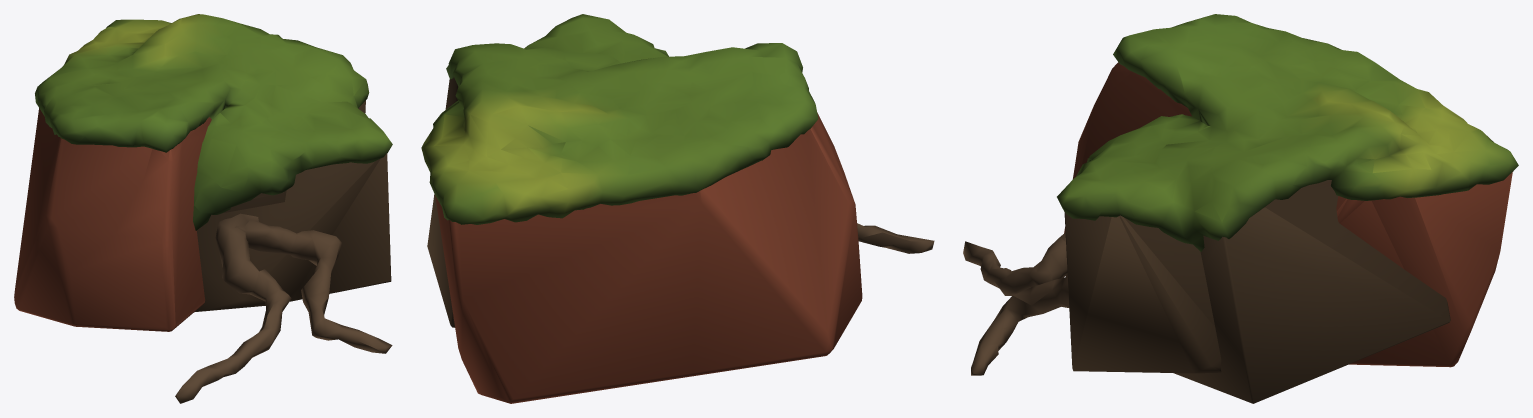
The model's file is mire_peat_clod_a_lod1.glb.
3 renders of one model, left to right at view 1: azimuth 30°, elevation 25°; view 2: azimuth 150°, elevation 25°; view 3: azimuth 270°, elevation 25°, orthographic. The views are drawn at different scales.
Parts seen in each view (by area): view 1: mire_peat_clod_a.001; view 2: mire_peat_clod_a.001; view 3: mire_peat_clod_a.001.
Boxes of the visible parts, x1=… form: mire_peat_clod_a.001: x1=14, y1=14, x2=392, y2=403; mire_peat_clod_a.001: x1=421, y1=14, x2=934, y2=403; mire_peat_clod_a.001: x1=963, y1=14, x2=1518, y2=403.
Bounding box in the file's own units: 6.2 × 3.92 × 7.43.
